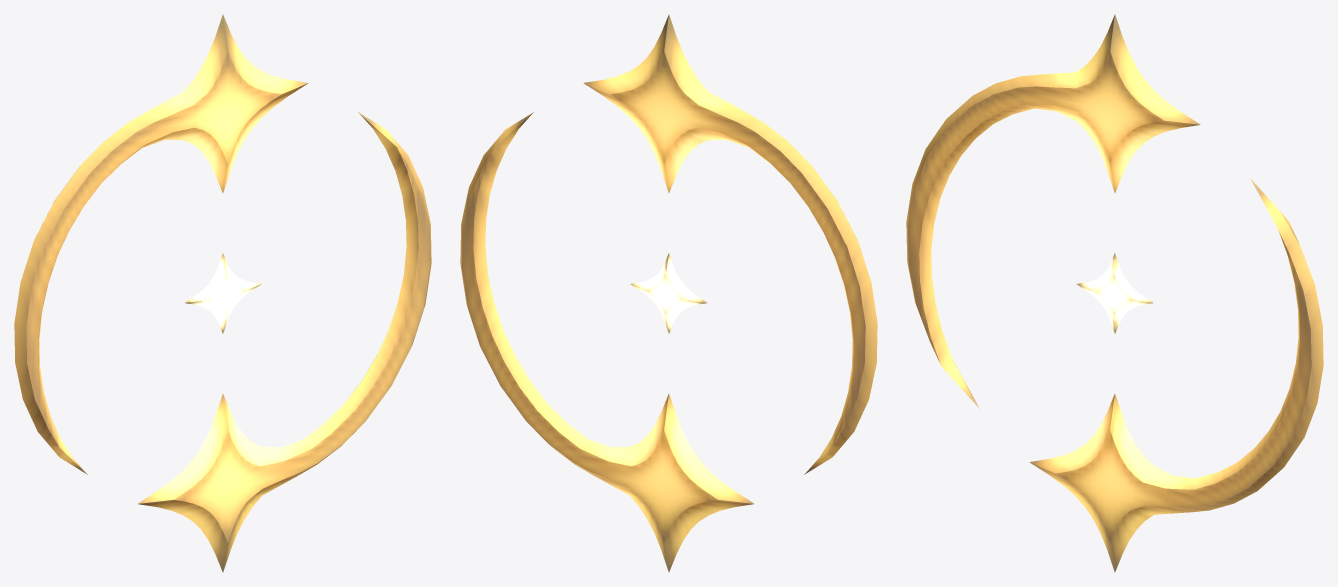
Rendered from Sigil25RIGGED.fbx.
3 views of the same model, side by side, from view 1: azimuth 30°, elevation 25°; view 2: azimuth 150°, elevation 25°; view 3: azimuth 330°, elevation 25° (orthographic).
Visible parts, largest first — view 1: Sigil_25.005, Sigil_25.004; view 2: Sigil_25.005, Sigil_25.004; view 3: Sigil_25.005, Sigil_25.004.
Part boxes in pixels (x1=…): Sigil_25.005: x1=14, y1=14, x2=431, y2=572; Sigil_25.004: x1=184, y1=253, x2=261, y2=333; Sigil_25.005: x1=460, y1=14, x2=877, y2=572; Sigil_25.004: x1=630, y1=253, x2=707, y2=333; Sigil_25.005: x1=906, y1=14, x2=1323, y2=572; Sigil_25.004: x1=1076, y1=253, x2=1153, y2=333.
Size of the model in its own units: 0.0969 by 0.124 by 0.00437.
